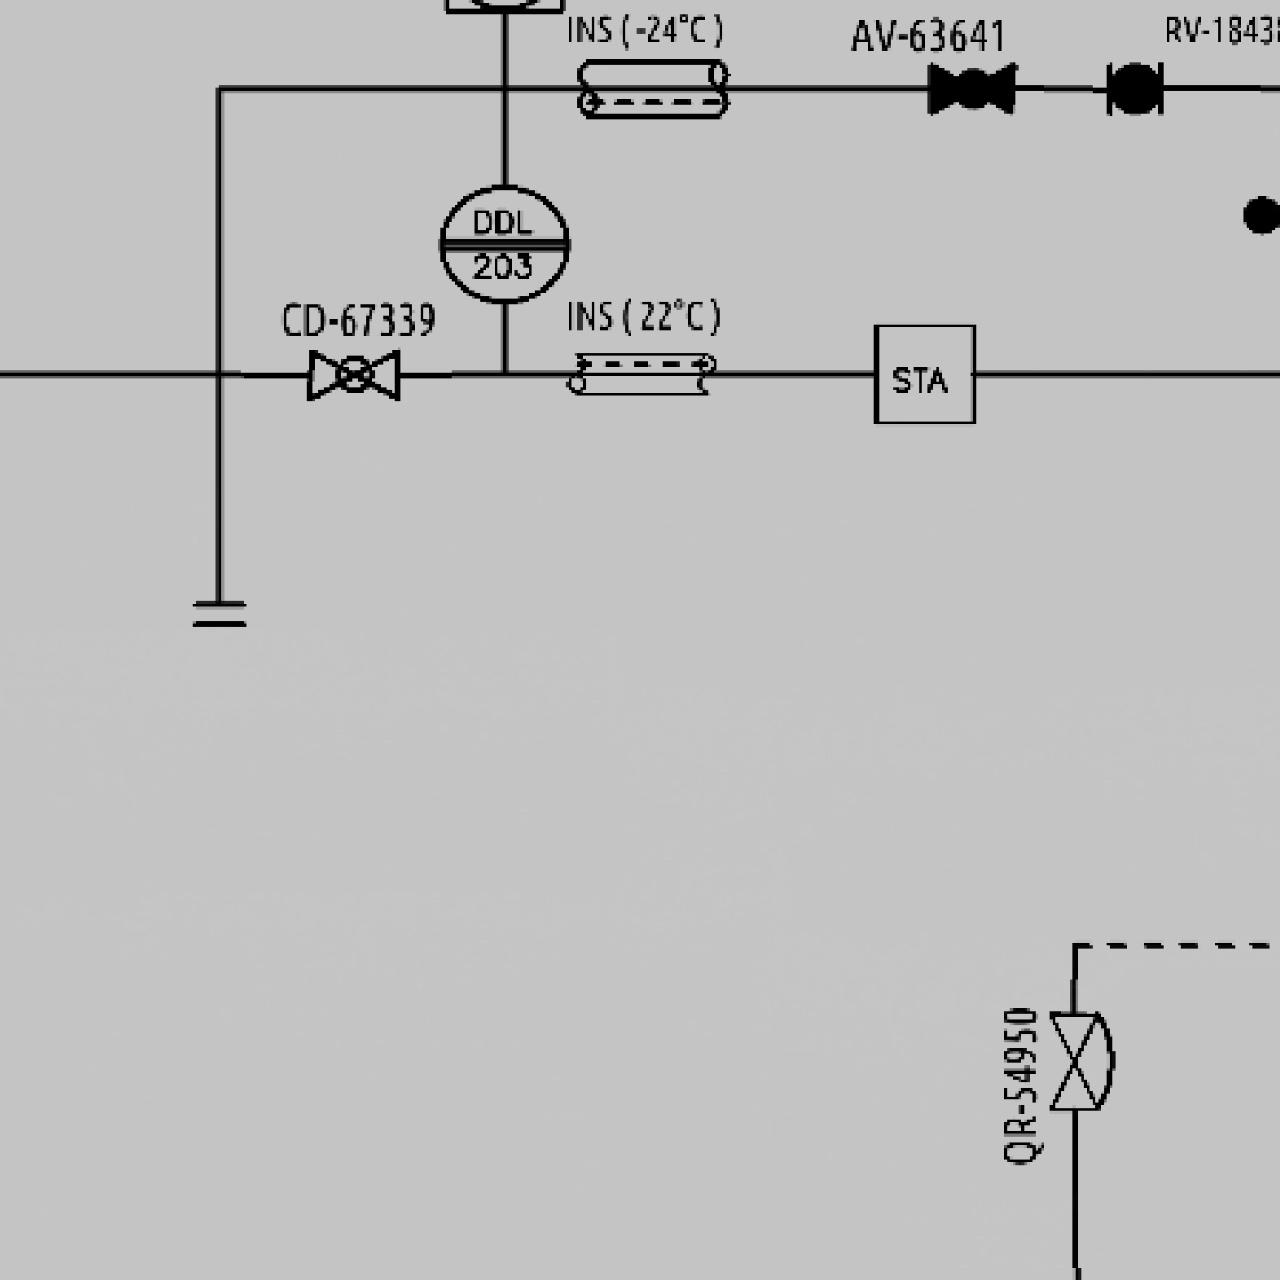Control-Panel: (434, 173, 573, 313)
